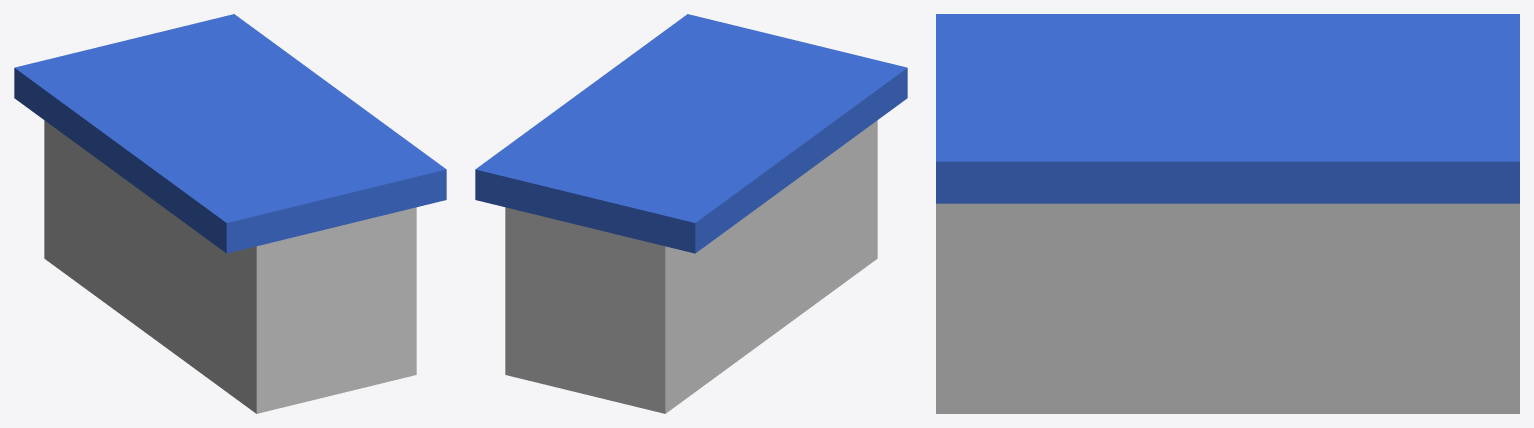
The model's file is DeskBase.fbx.
The picture shows the model from 3 angles, left to right: view 1: azimuth 30°, elevation 25°; view 2: azimuth 150°, elevation 25°; view 3: azimuth 270°, elevation 25°; orthographic projection. The views are drawn at different scales.
Parts seen in each view (by area): view 1: DeskEmptyBase; view 2: DeskEmptyBase; view 3: DeskEmptyBase.
Boxes of the visible parts, x1,y1,x2,y2 form: DeskEmptyBase: (14, 14, 446, 413); DeskEmptyBase: (475, 14, 907, 413); DeskEmptyBase: (936, 14, 1519, 413).
Bounding box in the file's own units: 807 × 695 × 1350.
